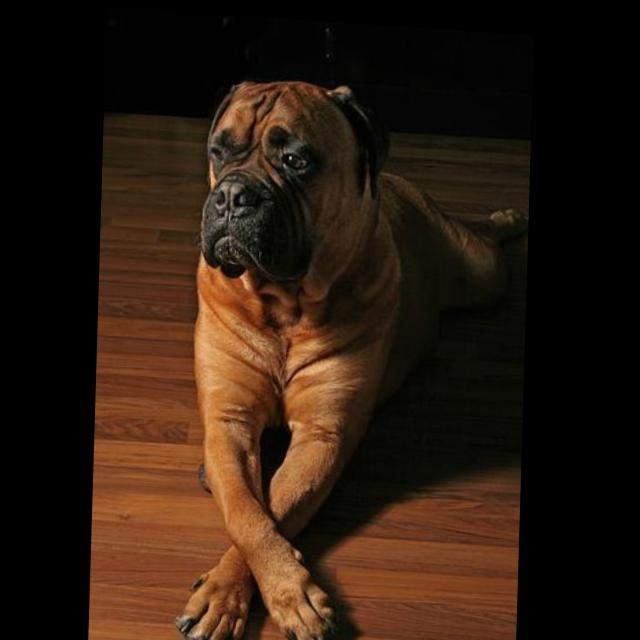bullmastiff: (179, 70, 533, 640)
